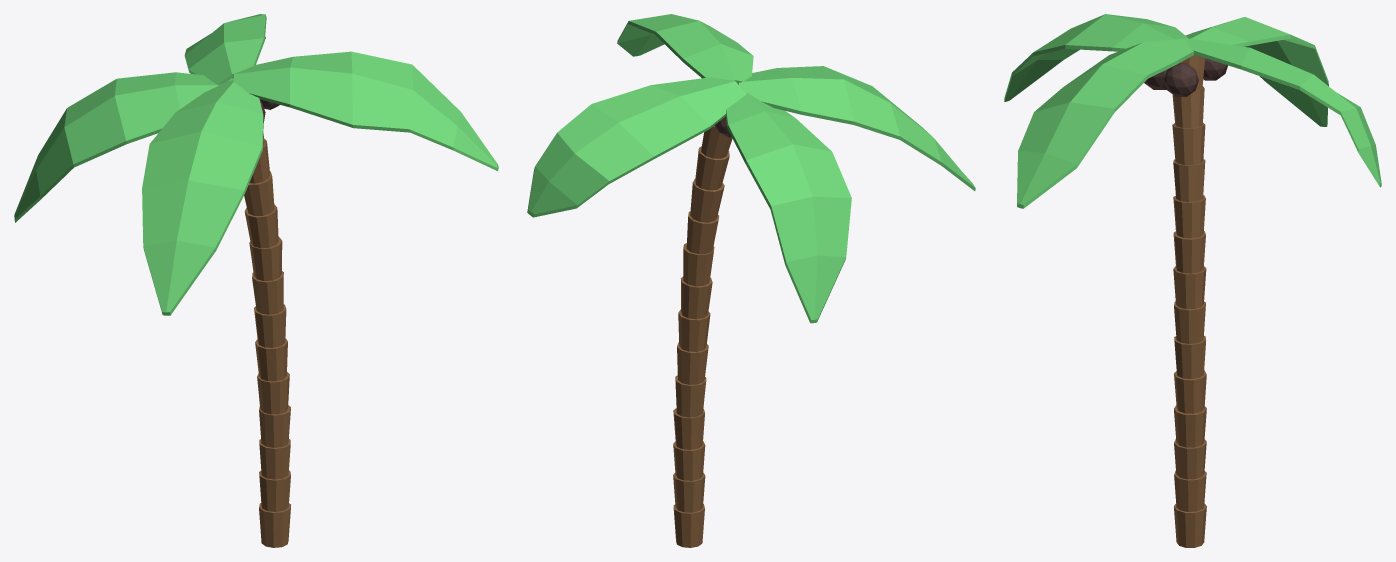
Rendered from palm.fbx.
3 views of the same model, side by side, from view 1: azimuth 30°, elevation 25°; view 2: azimuth 150°, elevation 25°; view 3: azimuth 270°, elevation 25° (orthographic). The views are drawn at different scales.
Visible parts, largest first — view 1: Cylinder.012; view 2: Cylinder.012; view 3: Cylinder.012.
Boxes of the visible parts, bbox=[...] form: Cylinder.012: bbox=[14, 14, 498, 547]; Cylinder.012: bbox=[527, 14, 975, 547]; Cylinder.012: bbox=[1004, 14, 1381, 547].
Size of the model in its own units: 375 by 515 by 356.
